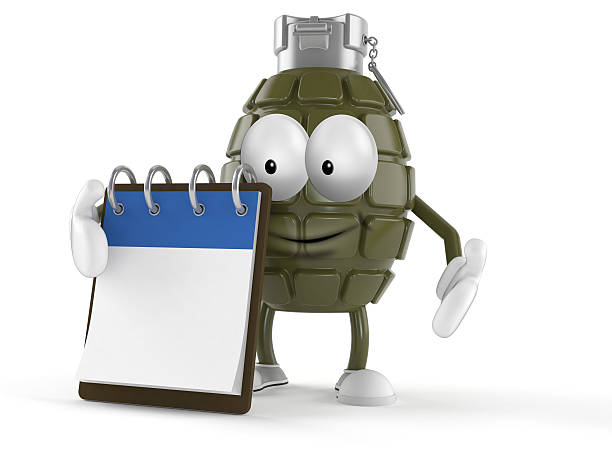e1: (222, 8, 417, 304)
